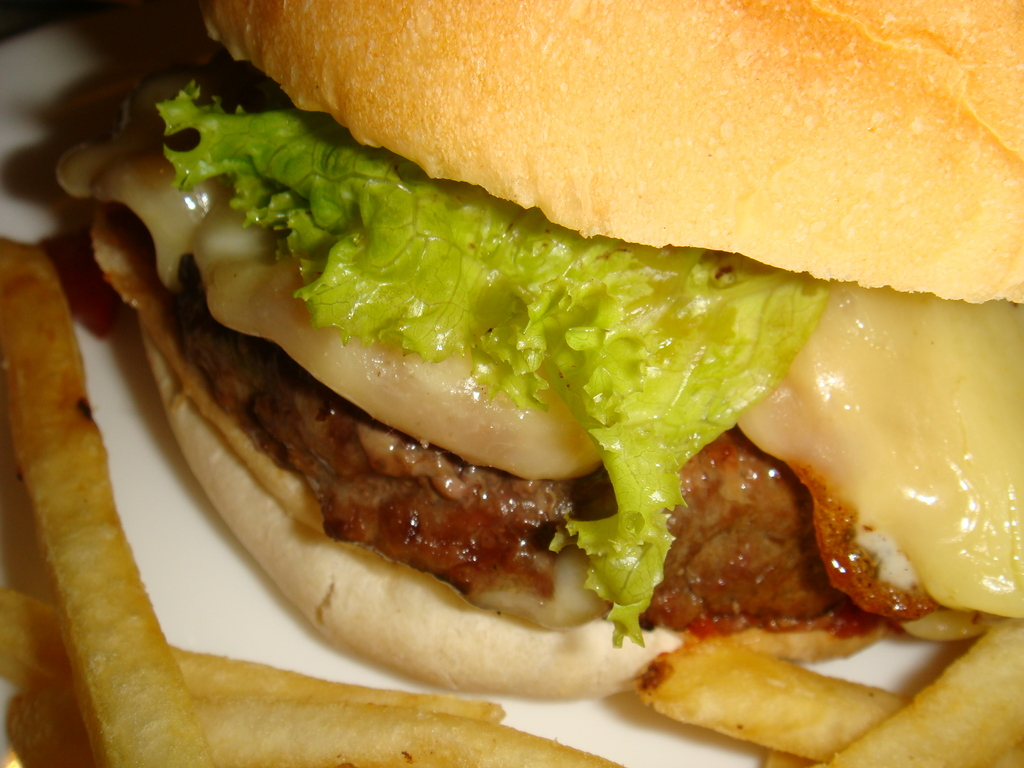French fries: (0, 232, 632, 768), (623, 621, 1024, 768)
